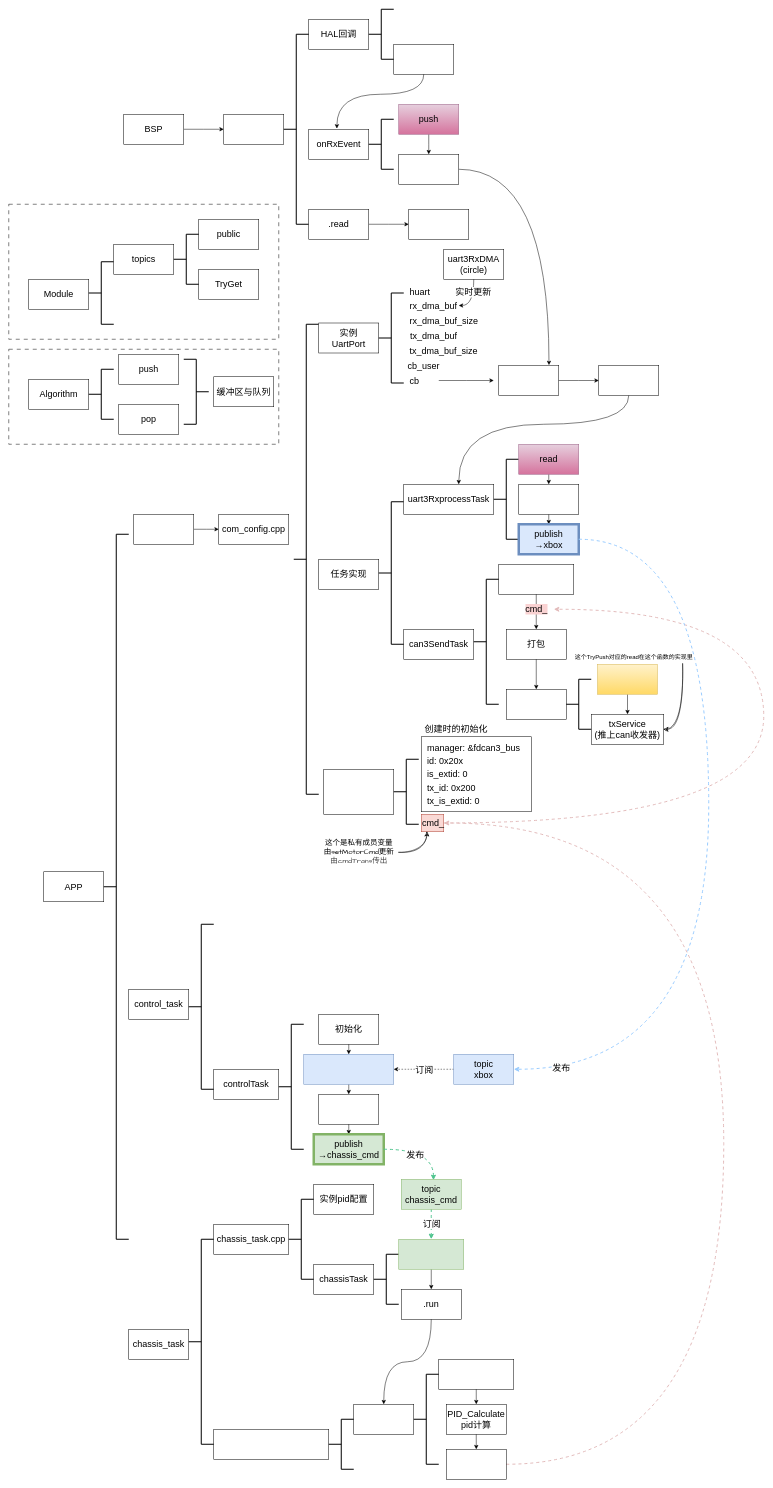
The diagram is 773 pixels wide and 1488 high, and some of its shapes have lost their labels. Each missing label, with the centre of its shape:
. run: pixel 383 1419
addCanMsg: pixel 536 704
c_mX.cmdTrans: pixel 536 579
chassis_solution.hpp (class MecanumChassis): pixel 271 1444
onUart3RxCb: pixel 528 380
robot_com: pixel 163 529
rx_callback: pixel 428 169
setMotorCmd: pixel 476 1464
solveWheelRpm 解算得到目标值: pixel 476 1374
try pop: pixel 438 224
TryGet ←chassis_cmd: pixel 431 1254
TryGet ←xbox: pixel 348 1069
TryPush: pixel 627 679
UartPort: pixel 253 129
xbox数据解析: pixel 548 499
串口接收回调: pixel 423 59
处理: pixel 348 1109
实例 C620Motor chassis_motorX: pixel 358 791
释放uart3_rx信号量: pixel 628 380
